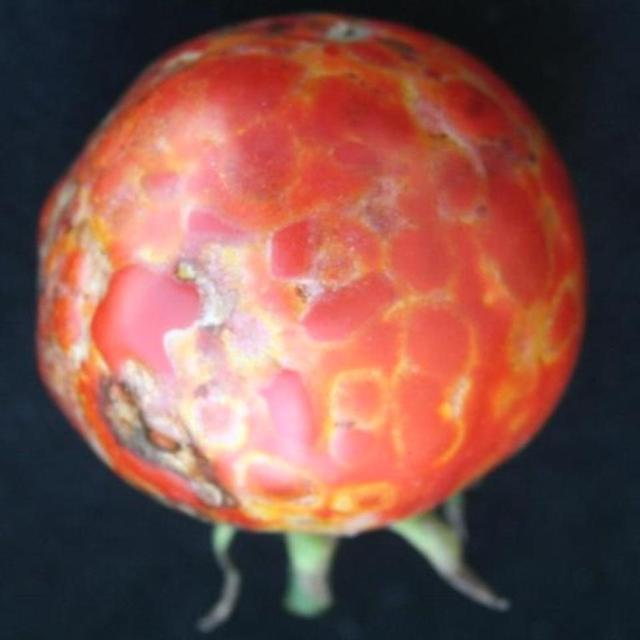Spotted wilt Virus Fruit: (118, 180, 409, 518)
